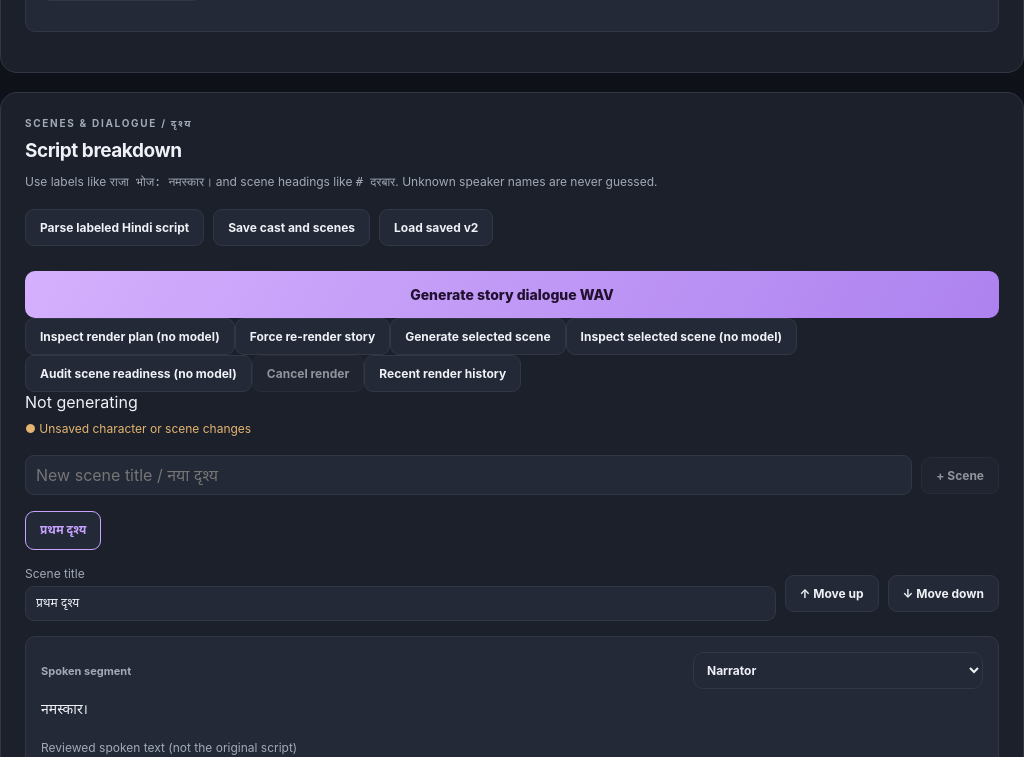
Scenario: real React/Tauri desktop controls with mocked IPC (no voice model) › shows a bounded recovery explanation without echoing raw exception data
The width and height of the screenshot is (1024, 757).
(page scrolled)
Click the button "Recent render history".
click(443, 374)  # box [364, 355, 521, 392]
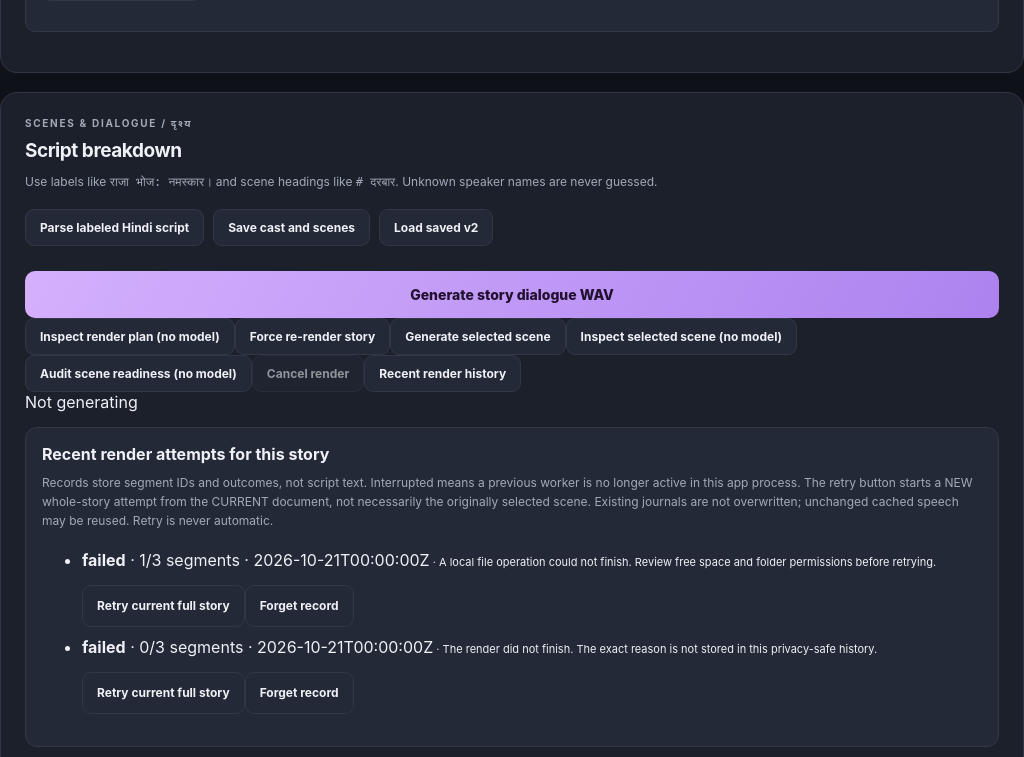
Expected: the text "Review free space and folder permissions" is shown, [439, 555, 936, 569]
Expected: the text "exact reason is not stored" is shown, [443, 642, 877, 656]
Expected: the number of buttons "Retry current full story" is 2, [82, 585, 245, 627]; [82, 672, 245, 714]
